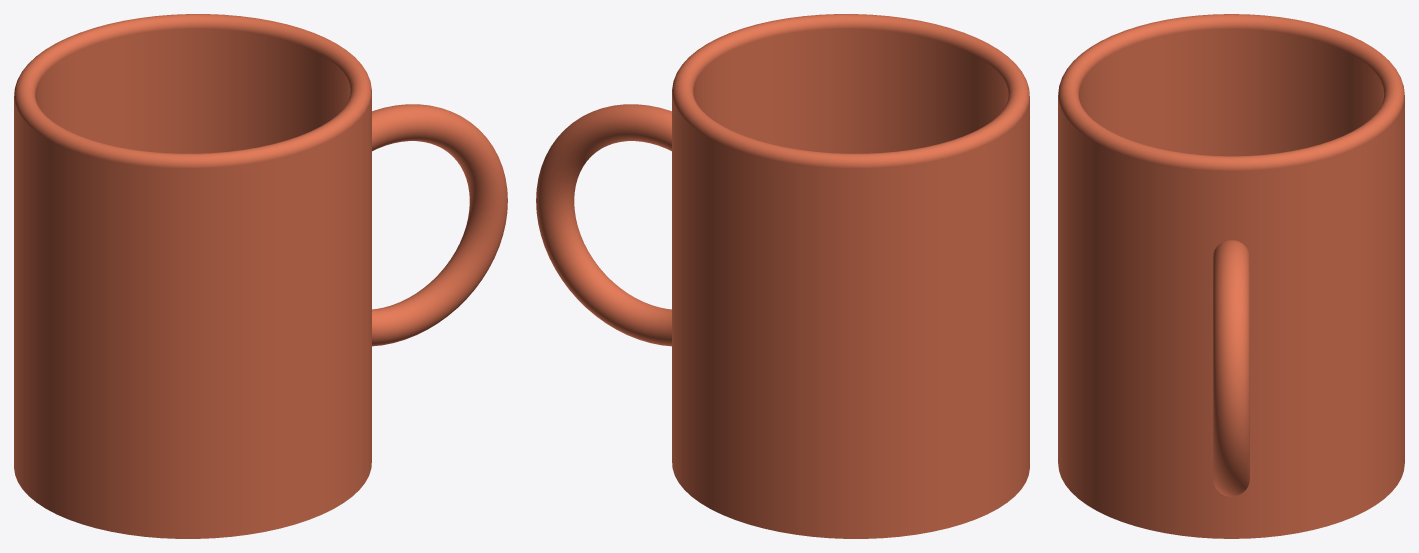
3 renders of one model, left to right at view 1: azimuth 30°, elevation 25°; view 2: azimuth 150°, elevation 25°; view 3: azimuth 270°, elevation 25°, orthographic.
Parts seen in each view (by area): view 1: 杯壁, 杯把, 杯口, 杯底; view 2: 杯壁, 杯把, 杯口, 杯底; view 3: 杯壁, 杯口, 杯把, 杯底.
Boxes of the visible parts, x1,y1,x2,y2 form: 杯壁: (14,28,371,534); 杯把: (372,104,507,346); 杯口: (14,14,371,168); 杯底: (14,443,371,538); 杯壁: (672,28,1029,534); 杯把: (536,104,671,346); 杯口: (672,14,1029,168); 杯底: (672,443,1029,538); 杯壁: (1058,29,1404,534); 杯口: (1058,14,1404,171); 杯把: (1213,240,1249,496); 杯底: (1058,440,1404,538).
Size of the model in its own units: 0.155 by 0.12 by 0.1.
